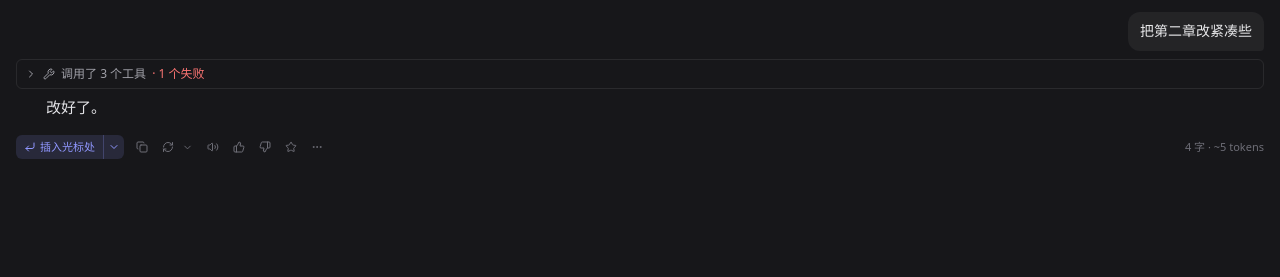
Test case: agent 工具调用折叠 + 全部撤销（阶段 2B） › 默认收成一行，展开看每一步
Expected: the text "调用了 3 个工具" is shown, [61,66,146,82]
Expected: the text "· 1 个失败" is shown, [152,66,204,82]
What coordinates should you click on to do the following:
click the button with aria-label "展开工具调用"
I would click on:
 (81, 73)
Its box is [17,60,1263,88].
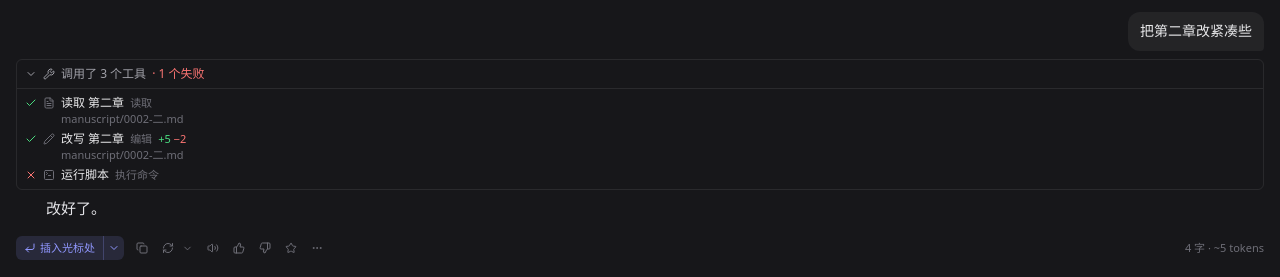
Now the text "改写 第二章" is shown, box [61,130,124,147]
Now the text "编辑" is shown, box [130,131,152,146]
Now the text "+5" is shown, box [158,131,171,146]
